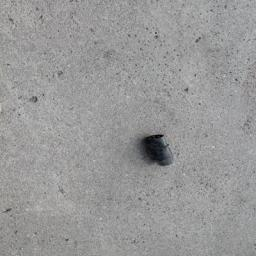FOD: (140, 135, 180, 170)
